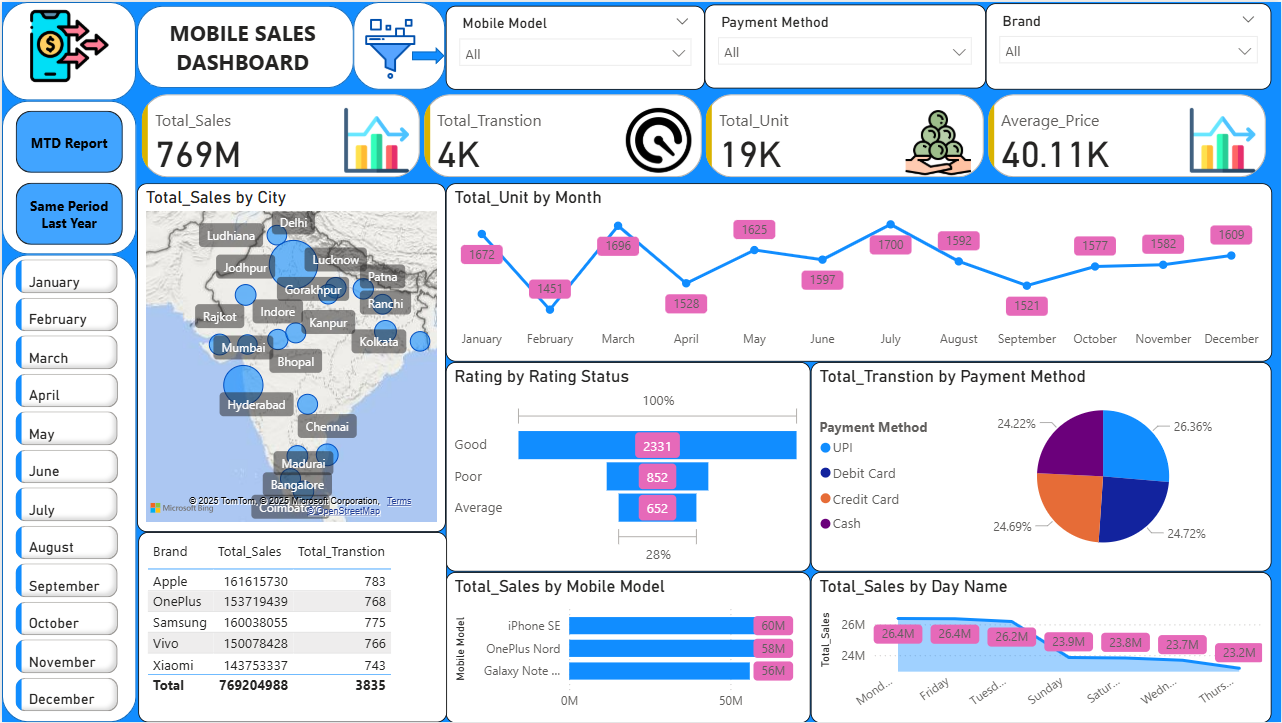

Layout of this report page (visuals, bound fields, positions):
{"tool":"powerbi","page":{"name":"Dashboard","canvas":[1280,720],"ordinal":0},"visuals":[{"type":"shape","box":[0,0,134.5,98.8],"z":0},{"type":"image","box":[13.7,0,107,87.8],"z":1000},{"type":"shape","box":[0,98.8,134.5,153.7],"z":2000},{"type":"shape","box":[0,252.5,134.5,467.9],"z":3000},{"type":"advancedSlicerVisual","fields":{"Values":["Custom_Calender.Date.Variation.Date Hierarchy.Month"]},"box":[8.2,252.5,112.5,467.9],"z":4000},{"type":"cardVisual","fields":{"Data":["Sales_Data.Total_Sales","Sales_Data.Total_Transtion","Sales_Data.Total_Unit","Sales_Data.Average_Price"]},"box":[134.5,87.8,1134.8,93.3],"z":5000},{"type":"slicer","fields":{"Values":["Sales_Data.Mobile Model"]},"box":[443.2,4.1,259.3,83.7],"z":6000},{"type":"shape","box":[134.5,4.1,216.8,82.3],"z":7000},{"type":"slicer","fields":{"Values":["Sales_Data.Payment Method"]},"box":[702.6,2.7,281.3,83.7],"z":8000},{"type":"slicer","fields":{"Values":["Sales_Data.Brand"]},"box":[983.9,1.4,285.4,86.4],"z":9000},{"type":"shape","box":[351.3,0,91.9,87.8],"z":10000},{"type":"image","box":[348.5,11,79.6,71.4],"z":11000},{"type":"shape","box":[410.3,45.3,32.9,17.8],"z":12000},{"type":"textbox","box":[148.2,11,183.9,71.4],"z":13000},{"type":"map","fields":{"Category":["Sales_Data.City"],"Size":["Sales_Data.Total_Sales"]},"box":[134.5,181.1,308.7,348.5],"z":14000},{"type":"lineChart","fields":{"Category":["Custom_Calender.Date.Variation.Date Hierarchy.Month"],"Y":["Sales_Data.Total_Unit"]},"box":[443.2,181.1,826.1,178.4],"z":15000},{"type":"funnel","title":"Rating by Rating Status","fields":{"Y":["CountNonNull(Sales_Data.Customer Ratings)"],"Category":["Sales_Data.Rating_Status"]},"box":[443.2,359.5,365,209.9],"z":16000},{"type":"pieChart","fields":{"Y":["Sales_Data.Total_Transtion"],"Category":["Sales_Data.Payment Method"]},"box":[808.2,359.5,461.1,209.9],"z":17000},{"type":"clusteredBarChart","fields":{"Y":["Sales_Data.Total_Sales"],"Category":["Sales_Data.Mobile Model"]},"box":[443.2,569.5,365,150.9],"z":18000},{"type":"areaChart","fields":{"Y":["Sales_Data.Total_Sales"],"Category":["Custom_Calender.Day Name"]},"box":[808.2,569.5,461.1,150.9],"z":19000},{"type":"tableEx","fields":{"Values":["Sales_Data.Brand","Sales_Data.Total_Sales","Sales_Data.Total_Transtion"]},"box":[135.8,529.7,308.7,190.7],"z":20000},{"type":"pageNavigator","box":[13.7,108.4,107,134.5],"z":21000}]}

Visuals, with their boxes in screenshot pixels (x1, y1, x2, y2), scaled from the page's 1280x720 canvas onto the 1282x723 screenshot:
shape: (x1=0, y1=0, x2=135, y2=99)
image: (x1=14, y1=0, x2=121, y2=88)
shape: (x1=0, y1=99, x2=135, y2=254)
shape: (x1=0, y1=254, x2=135, y2=722)
advancedSlicerVisual - Custom_Calender.Date.Variation.Date Hierarchy.Month: (x1=8, y1=254, x2=121, y2=722)
cardVisual - Sales_Data.Total_Sales x Sales_Data.Total_Transtion: (x1=135, y1=88, x2=1271, y2=182)
slicer - Sales_Data.Mobile Model: (x1=444, y1=4, x2=704, y2=88)
shape: (x1=135, y1=4, x2=352, y2=87)
slicer - Sales_Data.Payment Method: (x1=704, y1=3, x2=985, y2=87)
slicer - Sales_Data.Brand: (x1=985, y1=1, x2=1271, y2=88)
shape: (x1=352, y1=0, x2=444, y2=88)
image: (x1=349, y1=11, x2=429, y2=83)
shape: (x1=411, y1=45, x2=444, y2=63)
textbox: (x1=148, y1=11, x2=333, y2=83)
map - Sales_Data.City x Sales_Data.Total_Sales: (x1=135, y1=182, x2=444, y2=532)
lineChart - Custom_Calender.Date.Variation.Date Hierarchy.Month x Sales_Data.Total_Unit: (x1=444, y1=182, x2=1271, y2=361)
"Rating by Rating Status" funnel: (x1=444, y1=361, x2=809, y2=572)
pieChart - Sales_Data.Total_Transtion x Sales_Data.Payment Method: (x1=809, y1=361, x2=1271, y2=572)
clusteredBarChart - Sales_Data.Total_Sales x Sales_Data.Mobile Model: (x1=444, y1=572, x2=809, y2=722)
areaChart - Sales_Data.Total_Sales x Custom_Calender.Day Name: (x1=809, y1=572, x2=1271, y2=722)
tableEx - Sales_Data.Brand x Sales_Data.Total_Sales: (x1=136, y1=532, x2=445, y2=722)
pageNavigator: (x1=14, y1=109, x2=121, y2=244)
